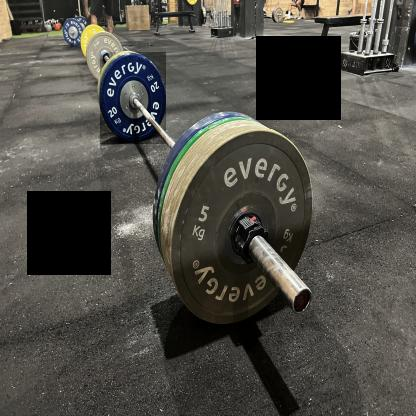barbell: (171, 131, 315, 329), (101, 53, 167, 145)
